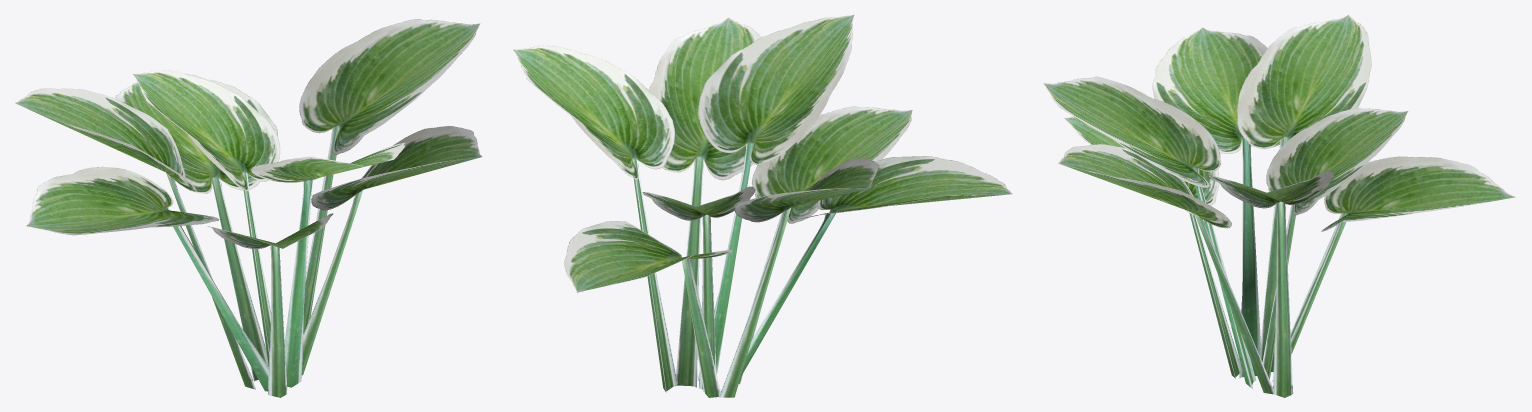
Rendered from plant_small_wg_05M.fbx.
The picture shows the model from 3 angles, left to right: view 1: azimuth 30°, elevation 25°; view 2: azimuth 150°, elevation 25°; view 3: azimuth 270°, elevation 25°; orthographic projection. The views are drawn at different scales.
Visible parts, largest first — view 1: plant_small_wg_05M; view 2: plant_small_wg_05M; view 3: plant_small_wg_05M.
Boxes of the visible parts, box(x1,y1,x2,y2) form: plant_small_wg_05M: box(15, 19, 482, 397); plant_small_wg_05M: box(513, 15, 1012, 397); plant_small_wg_05M: box(1043, 15, 1515, 397).
Size of the model in its own units: 62.85 by 38.15 by 57.72.
